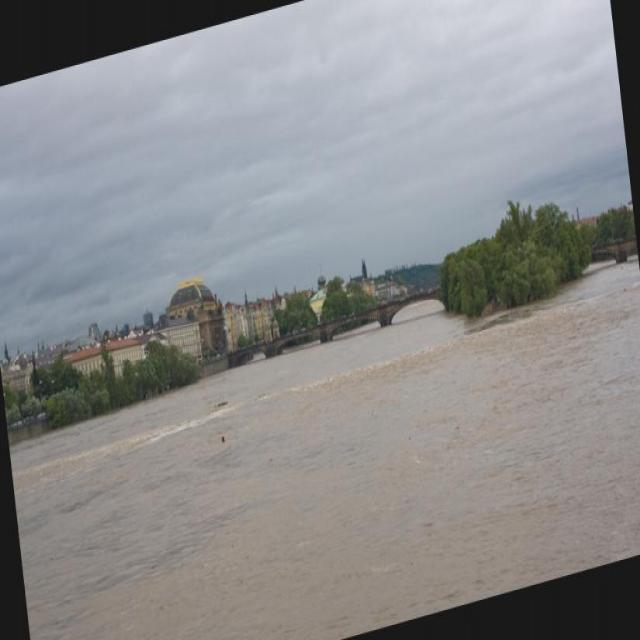flood: (6, 236, 640, 639)
